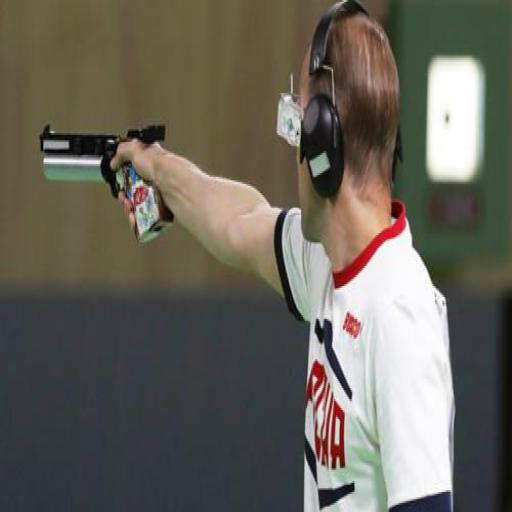shooting: (108, 2, 458, 510)
